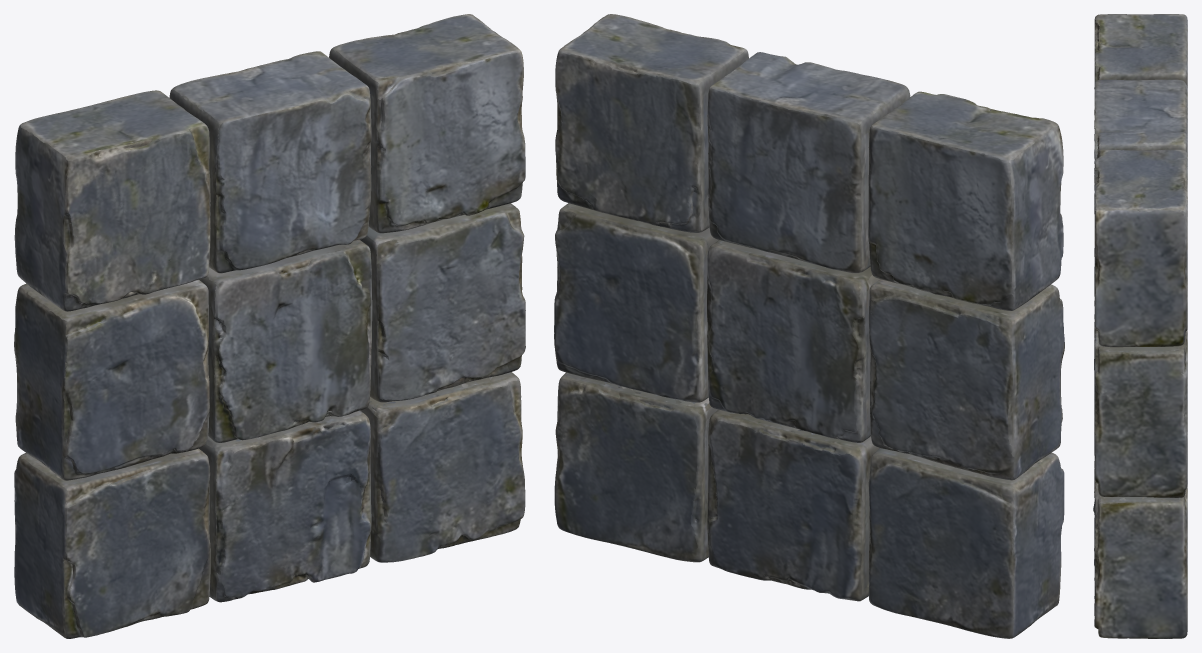
The model's file is nine-palace-v2.glb.
3 renders of one model, left to right at view 1: azimuth 30°, elevation 25°; view 2: azimuth 150°, elevation 25°; view 3: azimuth 270°, elevation 25°, orthographic. The views are drawn at different scales.
Parts seen in each view (by area): view 1: geometry_0; view 2: geometry_0; view 3: geometry_0.
Part boxes in pixels (left/top/right/bottom): geometry_0: left=14, top=14, right=525, bottom=638; geometry_0: left=554, top=14, right=1064, bottom=638; geometry_0: left=1093, top=14, right=1187, bottom=638.
Size of the model in its own units: 0.15 by 0.15 by 0.0299.
Materials: 1 (1 with a texture image).
